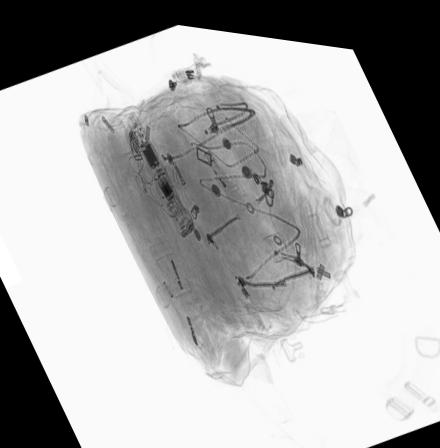Lighter: (196, 131, 249, 209)
